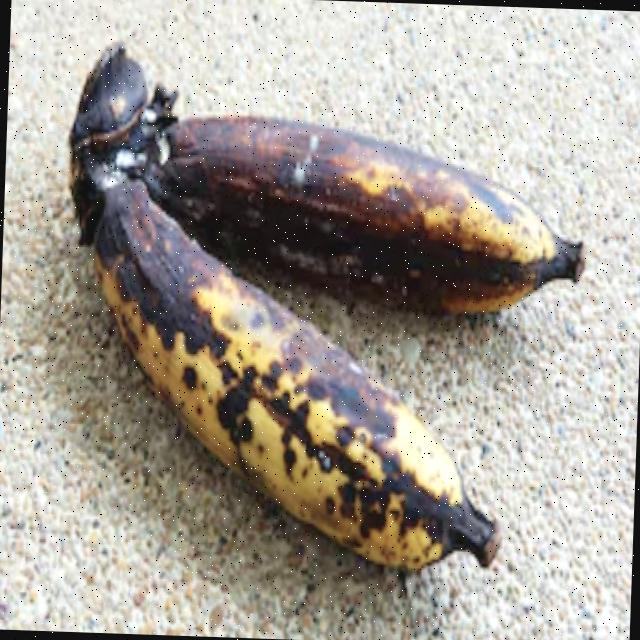rotten banana: (22, 39, 620, 618)
